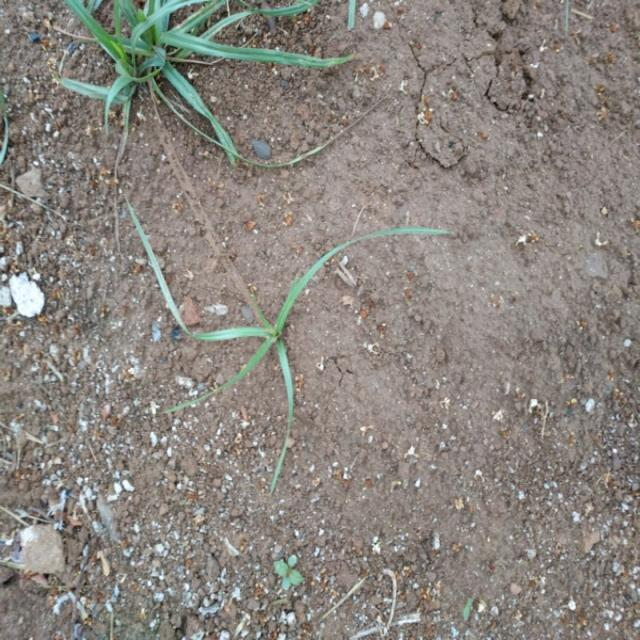sedge: (111, 182, 452, 488)
